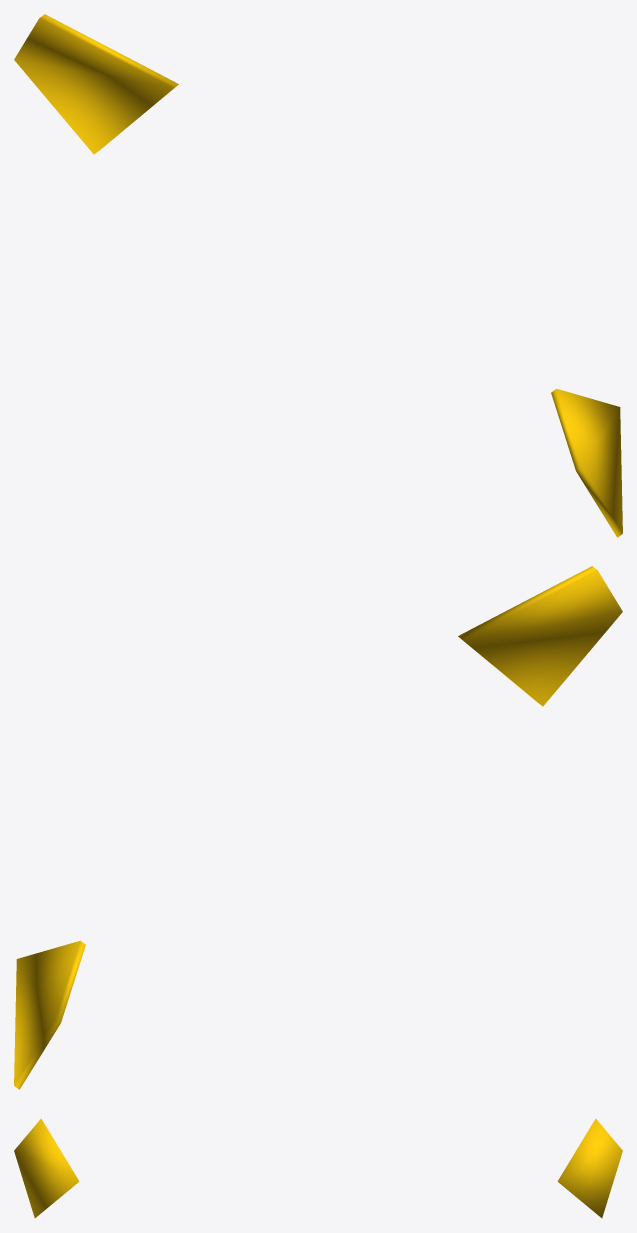
Rendered from van hole.fbx.
3 renders of one model, top to bottom at view 1: azimuth 30°, elevation 25°; view 2: azimuth 150°, elevation 25°; view 3: azimuth 270°, elevation 25°, orthographic. The views are drawn at different scales.
Parts seen in each view (by area): view 1: Car 4.001; view 2: Car 4.001; view 3: Car 4.001.
Part boxes in pixels (<box>): Car 4.001: <box>14,14,622,537</box>; Car 4.001: <box>14,566,622,1089</box>; Car 4.001: <box>14,1118,622,1218</box>.
Size of the model in its own units: 16.96 by 24.49 by 158.
